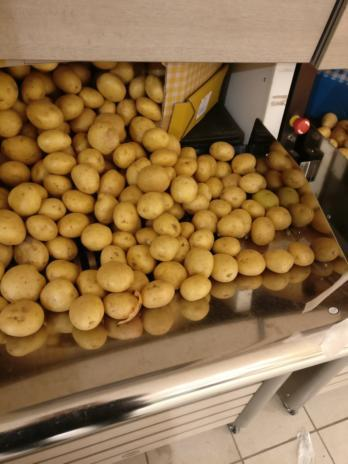Solid potato: (0, 152, 278, 284), (0, 62, 168, 158), (0, 290, 144, 337), (277, 175, 342, 269)
